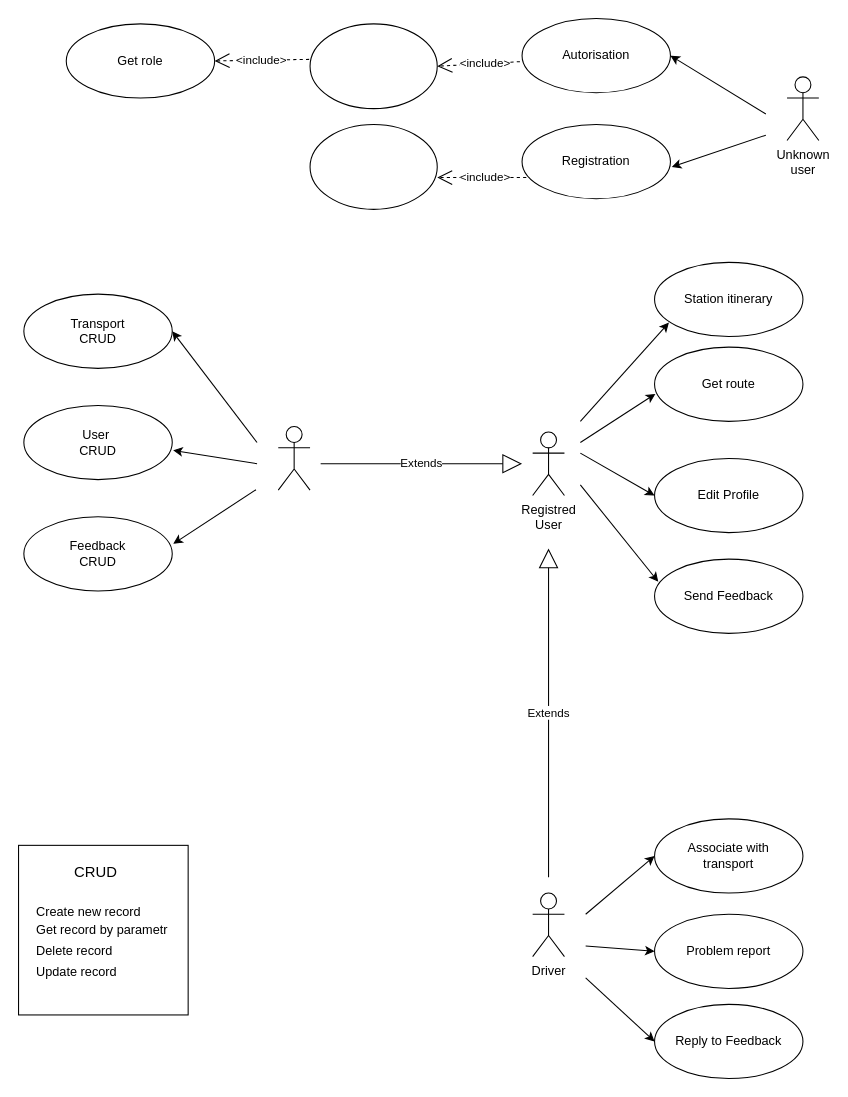
This 848x1097 diagram has some shape labels left out. Each missing label, with the box of its shape:
Add to DB: (309, 123, 437, 209)
Admin: (277, 425, 310, 490)
DB check: (309, 23, 437, 109)
